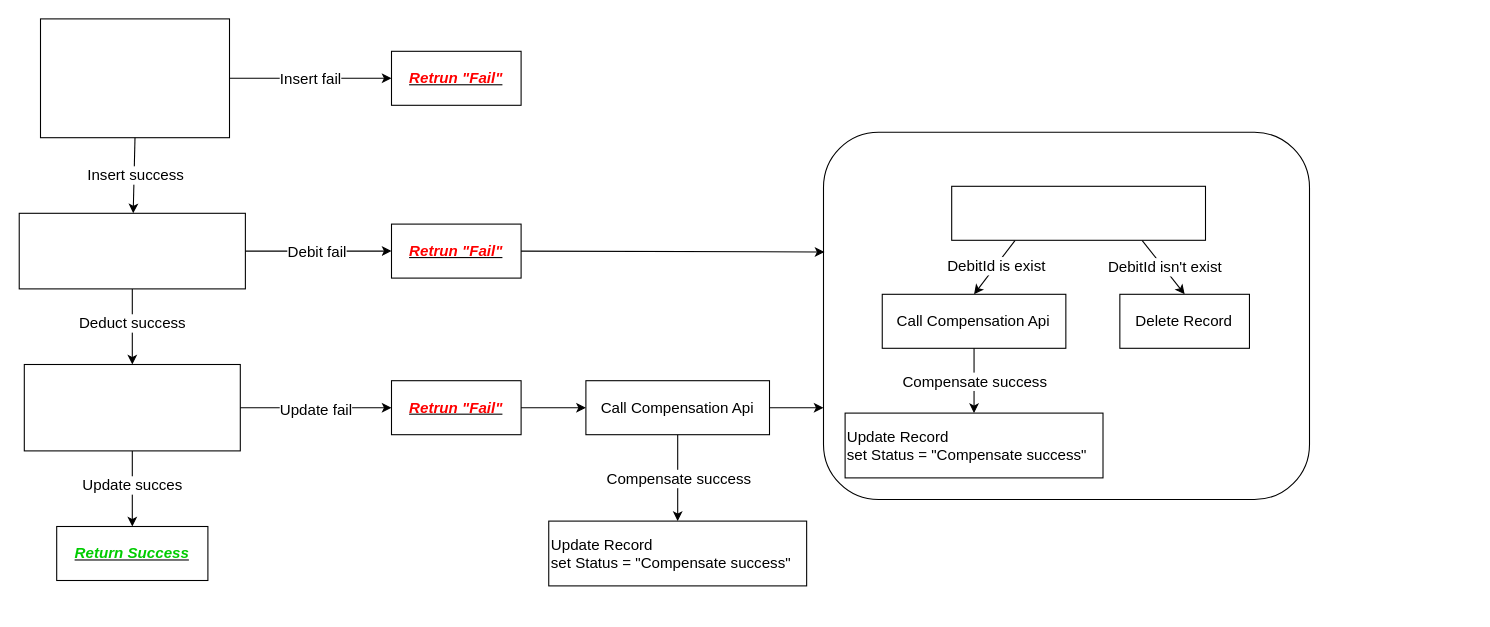
Image size: 1490x627. Some labels were removed from this diagram. Here are the shapes that lost their labels. From the top down, the box of each, then its label:
(39, 18, 230, 138): step 1 Insert Record set DebitId set CompensationId set Status = "In Progress"
(951, 185, 1205, 240): Select all Status == "In Progress"
(18, 212, 245, 289): step 2 Call Idempotent Debit Api
(822, 131, 1310, 500): Cron Job
(23, 363, 240, 451): step 3 Update Record set Status = "Debit Success"
